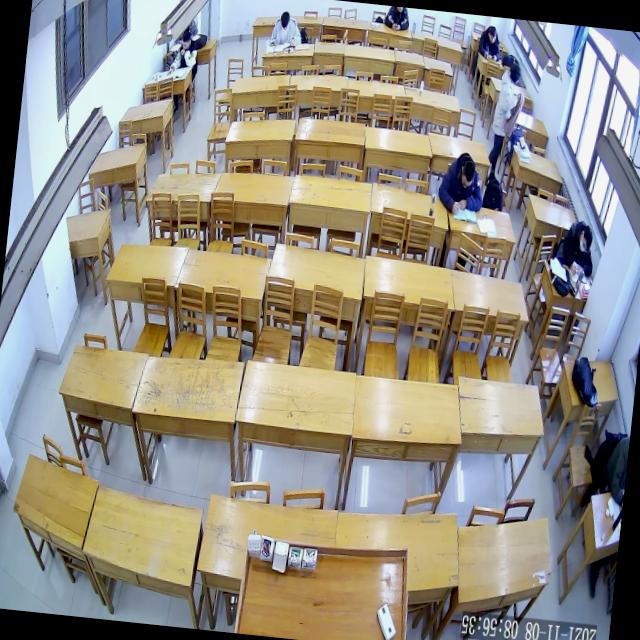down: (459, 159, 476, 189), (578, 224, 594, 252), (180, 30, 192, 50), (278, 10, 290, 30), (487, 25, 497, 44)
lookup: (508, 62, 522, 86)
sit: (488, 62, 526, 177), (435, 150, 487, 217), (555, 218, 597, 278), (167, 29, 200, 76), (269, 10, 303, 48), (477, 24, 502, 62)
